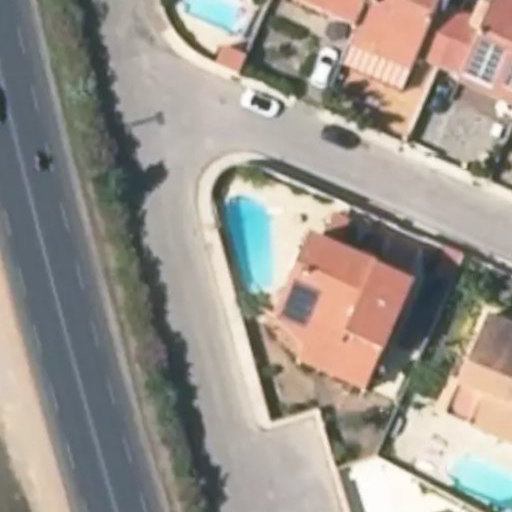pool: (225, 195, 285, 283)
